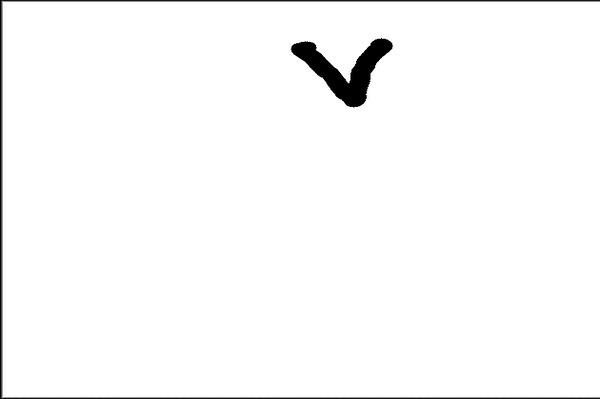V: (276, 19, 408, 110)
